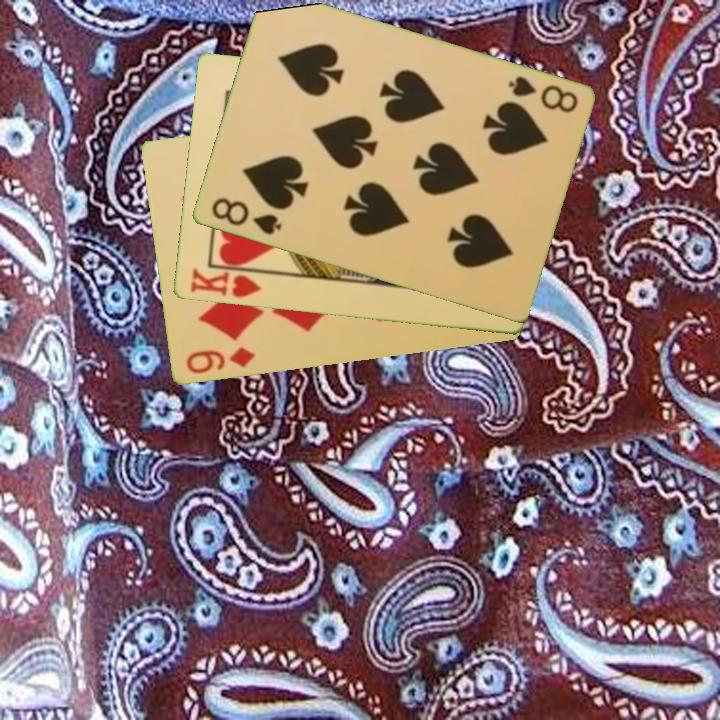8s: (207, 194, 284, 238), (504, 73, 581, 116)
9d: (182, 343, 257, 378)
Kh: (186, 263, 269, 301)
